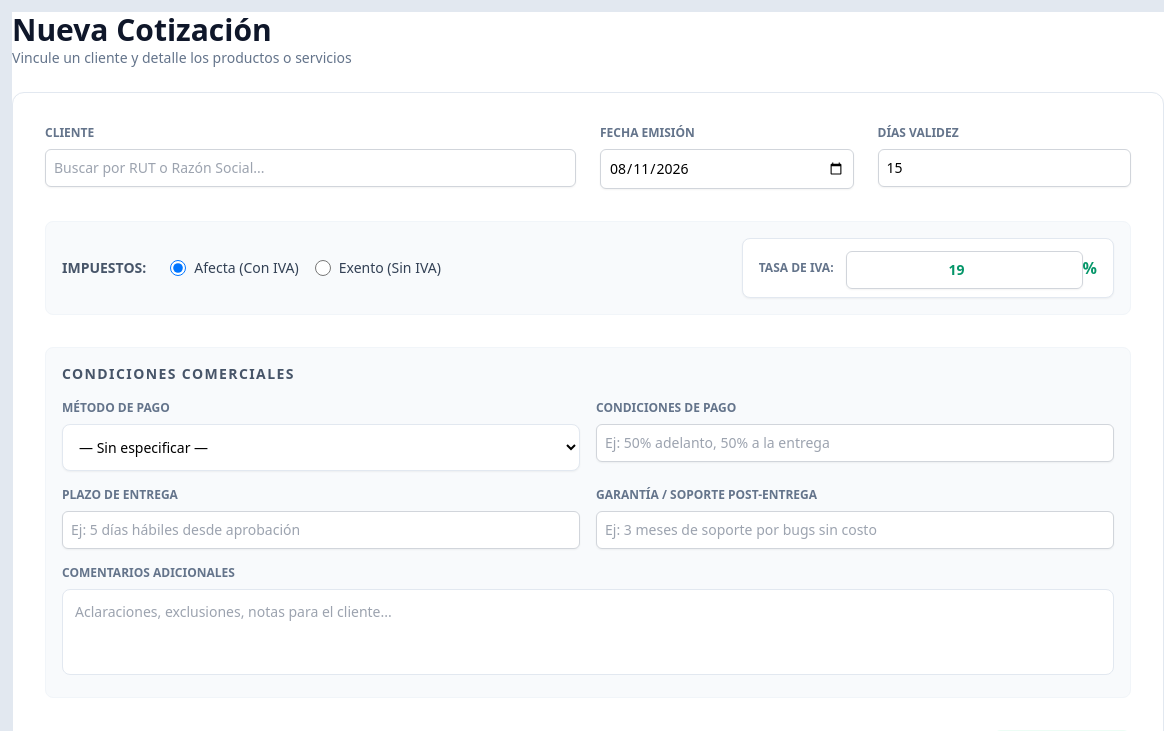
Test: CrearCotizacion — clientes › muestra dropdown al escribir en el buscador de cliente
Type "Otra" into the field with placeholder "Buscar por RUT o Razón Social...". click: [310, 168]
box: [45,149,576,187]
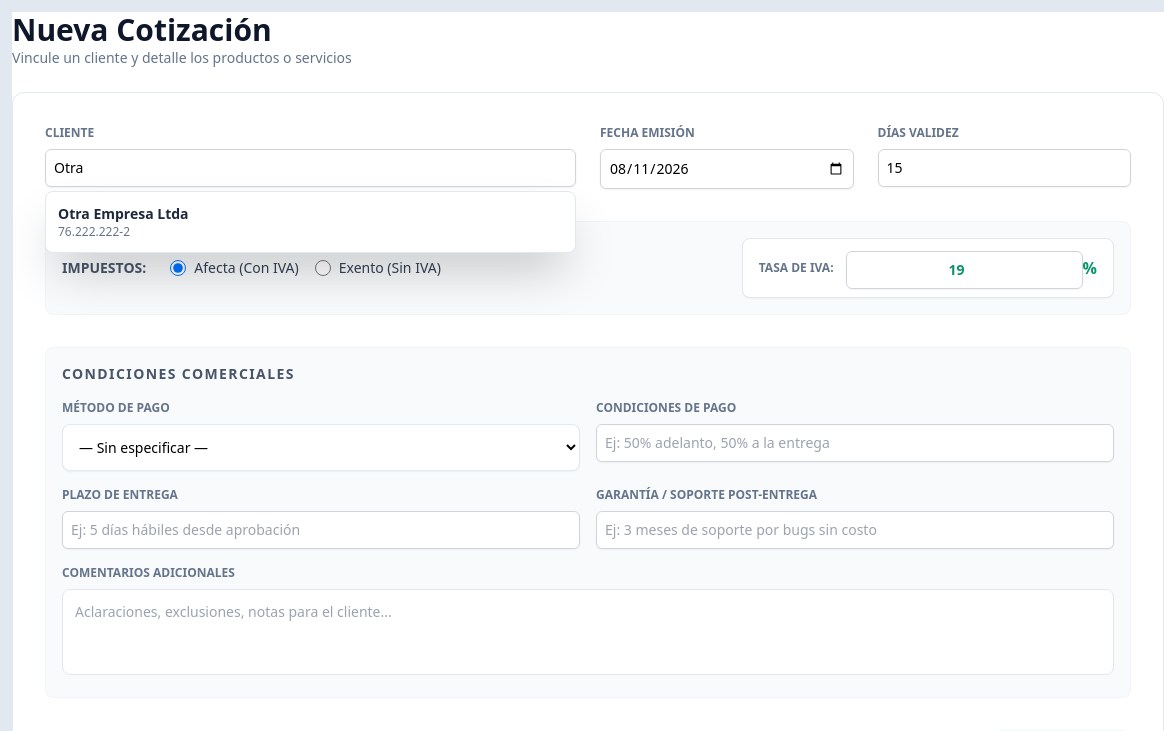
Expected: the text "Otra Empresa Ltda" is shown, [58,204,189,223]
